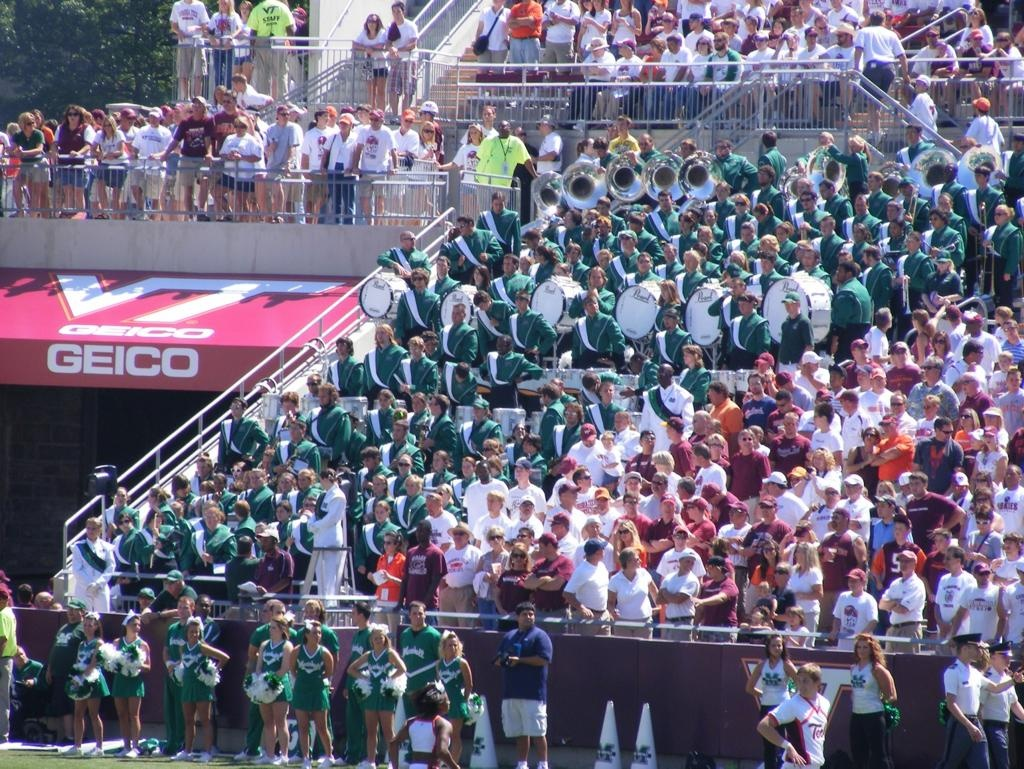human_face: (797, 672, 815, 696), (921, 359, 935, 381), (960, 376, 974, 396), (410, 607, 424, 626), (768, 637, 782, 656), (758, 502, 774, 518), (893, 520, 909, 536), (898, 555, 914, 571), (846, 575, 862, 591), (1003, 537, 1019, 553), (856, 640, 870, 658), (729, 506, 743, 524), (824, 488, 838, 506), (939, 424, 953, 442), (1004, 468, 1018, 486), (773, 564, 787, 582), (714, 140, 728, 158), (904, 128, 918, 146), (972, 346, 984, 366), (910, 476, 924, 493), (890, 397, 904, 414), (942, 550, 954, 569), (892, 348, 906, 364), (641, 432, 655, 448), (266, 623, 280, 639), (177, 600, 191, 616), (414, 522, 428, 538), (489, 530, 503, 546), (518, 500, 532, 516), (680, 557, 694, 573), (844, 480, 858, 496), (966, 644, 980, 660), (782, 416, 798, 430), (935, 534, 949, 550), (786, 610, 800, 626), (281, 399, 295, 415), (14, 649, 28, 665), (340, 416, 354, 432), (438, 690, 448, 712), (656, 364, 668, 382), (690, 413, 702, 431), (308, 626, 320, 644), (520, 609, 532, 627), (260, 604, 272, 622), (197, 598, 209, 616), (486, 494, 498, 512), (802, 250, 814, 268), (638, 254, 650, 272), (605, 124, 617, 142), (418, 430, 430, 448), (564, 408, 578, 423), (799, 194, 813, 209), (817, 394, 831, 408), (612, 415, 626, 429), (452, 529, 466, 543), (976, 517, 990, 531), (660, 500, 674, 514), (812, 454, 826, 468), (975, 496, 989, 510), (514, 467, 528, 481), (202, 504, 216, 518), (516, 530, 530, 544), (872, 374, 884, 390), (856, 369, 868, 385), (828, 372, 840, 388), (933, 334, 945, 350), (748, 377, 760, 393), (651, 476, 663, 492), (706, 388, 718, 404), (273, 606, 285, 622), (187, 625, 199, 641), (128, 619, 140, 635), (82, 618, 94, 634), (67, 605, 79, 621), (512, 548, 524, 564), (374, 505, 386, 521), (250, 472, 262, 488), (830, 512, 842, 528), (566, 488, 578, 504), (740, 434, 752, 450), (922, 401, 934, 417), (960, 411, 972, 427), (1008, 373, 1020, 389), (763, 542, 775, 558), (590, 270, 602, 286), (451, 306, 463, 322), (492, 198, 504, 214), (761, 242, 773, 258), (775, 226, 787, 242), (939, 196, 951, 212), (974, 170, 986, 186), (944, 164, 956, 180), (678, 216, 690, 232), (638, 136, 650, 152), (680, 143, 692, 159), (230, 401, 242, 417), (317, 388, 329, 404), (398, 456, 410, 472), (476, 462, 488, 478), (816, 18, 828, 34), (731, 254, 743, 270), (877, 500, 889, 516), (880, 420, 894, 433), (985, 414, 999, 427), (425, 498, 435, 516), (579, 473, 591, 488), (812, 410, 822, 428), (820, 219, 832, 234), (306, 378, 318, 393), (750, 614, 760, 632), (965, 318, 977, 332), (1004, 325, 1016, 339), (776, 400, 788, 414), (758, 360, 770, 374), (662, 315, 674, 329), (584, 302, 598, 314), (738, 300, 750, 314), (600, 386, 612, 400), (626, 479, 638, 493), (372, 633, 384, 647), (274, 506, 286, 520), (259, 536, 271, 550), (205, 514, 217, 528), (86, 523, 98, 537), (197, 462, 209, 476), (296, 474, 308, 488), (288, 424, 300, 438), (999, 653, 1011, 667), (618, 528, 630, 542), (876, 486, 888, 500), (626, 497, 638, 511), (864, 430, 876, 444), (954, 480, 966, 494), (796, 528, 808, 542), (930, 214, 942, 228), (993, 210, 1005, 224), (494, 336, 506, 350), (620, 240, 632, 254), (734, 198, 746, 212), (696, 230, 708, 244), (659, 196, 671, 210), (758, 170, 770, 184), (370, 476, 382, 490), (461, 460, 473, 474), (522, 438, 534, 452), (164, 576, 176, 590), (834, 30, 846, 44), (712, 36, 724, 50), (660, 14, 672, 28), (408, 343, 420, 357), (304, 499, 316, 513), (116, 572, 128, 586), (150, 514, 162, 528), (960, 140, 972, 154), (690, 450, 700, 466), (676, 483, 686, 499), (446, 638, 456, 654), (304, 606, 314, 622), (550, 520, 560, 536), (382, 534, 392, 550), (114, 488, 124, 504), (706, 562, 716, 578), (835, 265, 845, 281), (502, 256, 512, 272), (740, 226, 750, 242), (663, 245, 673, 261), (482, 108, 492, 124), (435, 487, 445, 503), (394, 424, 404, 440), (804, 28, 814, 44), (582, 434, 594, 447), (982, 434, 994, 447), (412, 273, 424, 286), (594, 497, 608, 508), (350, 607, 358, 626), (886, 204, 896, 219), (820, 184, 830, 199), (704, 209, 714, 224), (366, 15, 376, 30), (996, 34, 1006, 49), (998, 356, 1010, 368), (784, 300, 796, 312), (684, 507, 696, 519), (706, 494, 718, 506), (586, 382, 598, 394), (117, 517, 129, 529), (176, 485, 188, 497), (836, 255, 848, 267), (515, 298, 527, 310), (525, 236, 537, 248), (497, 120, 509, 132), (616, 120, 628, 132), (278, 110, 290, 122), (190, 100, 202, 112), (67, 110, 79, 122), (163, 112, 175, 124), (356, 109, 368, 121), (138, 594, 150, 606), (992, 310, 1002, 324), (856, 345, 866, 359), (709, 439, 719, 453), (682, 351, 692, 365), (652, 456, 662, 470), (665, 424, 675, 438), (538, 541, 548, 555), (279, 478, 289, 492), (631, 555, 641, 569), (766, 481, 776, 495), (839, 397, 849, 411), (684, 254, 694, 268), (760, 256, 770, 270), (854, 200, 864, 214), (853, 227, 863, 241), (436, 260, 446, 274), (866, 176, 876, 190), (629, 220, 639, 234), (820, 136, 830, 150), (562, 210, 572, 224), (516, 128, 526, 142), (538, 122, 548, 136), (715, 186, 725, 200), (796, 182, 806, 196), (405, 232, 415, 246), (422, 126, 432, 140), (222, 95, 232, 109), (406, 479, 416, 493), (432, 456, 442, 470), (514, 424, 524, 438), (410, 397, 420, 411), (364, 456, 374, 470), (392, 6, 402, 20), (968, 8, 978, 22), (772, 20, 782, 34), (696, 39, 706, 53), (376, 328, 386, 342), (424, 340, 434, 354), (888, 222, 898, 236), (262, 455, 272, 469), (604, 476, 614, 490), (234, 123, 246, 134), (778, 382, 790, 393), (213, 477, 223, 490), (482, 444, 492, 457), (228, 483, 238, 496), (458, 220, 466, 236), (428, 398, 436, 414), (170, 502, 178, 518), (808, 360, 818, 372), (603, 438, 613, 450), (789, 474, 799, 486), (628, 363, 638, 375), (562, 469, 572, 481), (910, 316, 920, 328), (589, 523, 599, 535), (676, 536, 686, 548), (976, 474, 986, 486), (978, 571, 988, 583), (730, 282, 740, 294), (472, 268, 482, 280), (566, 248, 576, 260), (596, 203, 606, 215), (1013, 140, 1023, 152), (469, 127, 479, 139), (585, 140, 595, 152), (594, 146, 604, 158), (520, 258, 530, 270), (553, 267, 563, 279), (532, 250, 542, 262), (370, 114, 380, 126), (320, 112, 330, 124), (214, 91, 224, 103), (472, 406, 482, 418), (51, 602, 61, 614), (38, 598, 48, 610), (254, 527, 264, 539), (926, 32, 936, 44), (755, 36, 765, 48), (936, 260, 946, 272), (194, 503, 204, 515), (596, 222, 606, 234), (723, 270, 733, 282), (659, 286, 669, 298), (794, 547, 802, 561), (905, 236, 913, 250), (378, 394, 386, 408), (541, 390, 549, 404), (790, 10, 798, 24), (744, 19, 752, 33), (319, 477, 329, 488), (123, 115, 133, 126), (799, 0, 811, 9), (146, 490, 154, 503), (231, 467, 241, 477), (902, 186, 912, 196), (339, 120, 349, 130), (666, 40, 676, 50), (1018, 438, 1024, 454), (596, 548, 604, 560), (597, 254, 605, 266), (754, 211, 762, 223), (404, 116, 412, 128), (240, 3, 248, 15), (828, 0, 840, 8), (914, 79, 922, 91), (724, 23, 732, 35), (688, 17, 696, 29), (618, 43, 626, 55), (590, 47, 602, 55), (199, 485, 207, 497), (707, 541, 715, 553), (654, 1, 662, 13), (581, 0, 591, 9), (860, 253, 868, 264), (651, 42, 659, 53), (456, 375, 464, 385), (150, 114, 158, 124), (31, 112, 39, 122), (288, 110, 296, 120), (492, 0, 502, 8), (972, 37, 980, 47), (786, 36, 794, 46), (620, 0, 630, 8), (336, 342, 344, 352), (478, 301, 488, 309), (848, 142, 856, 152), (25, 120, 33, 129), (220, 0, 226, 12), (1018, 569, 1024, 579), (0, 579, 6, 589), (104, 122, 110, 132), (232, 80, 238, 90), (418, 110, 424, 120), (594, 0, 600, 8)
